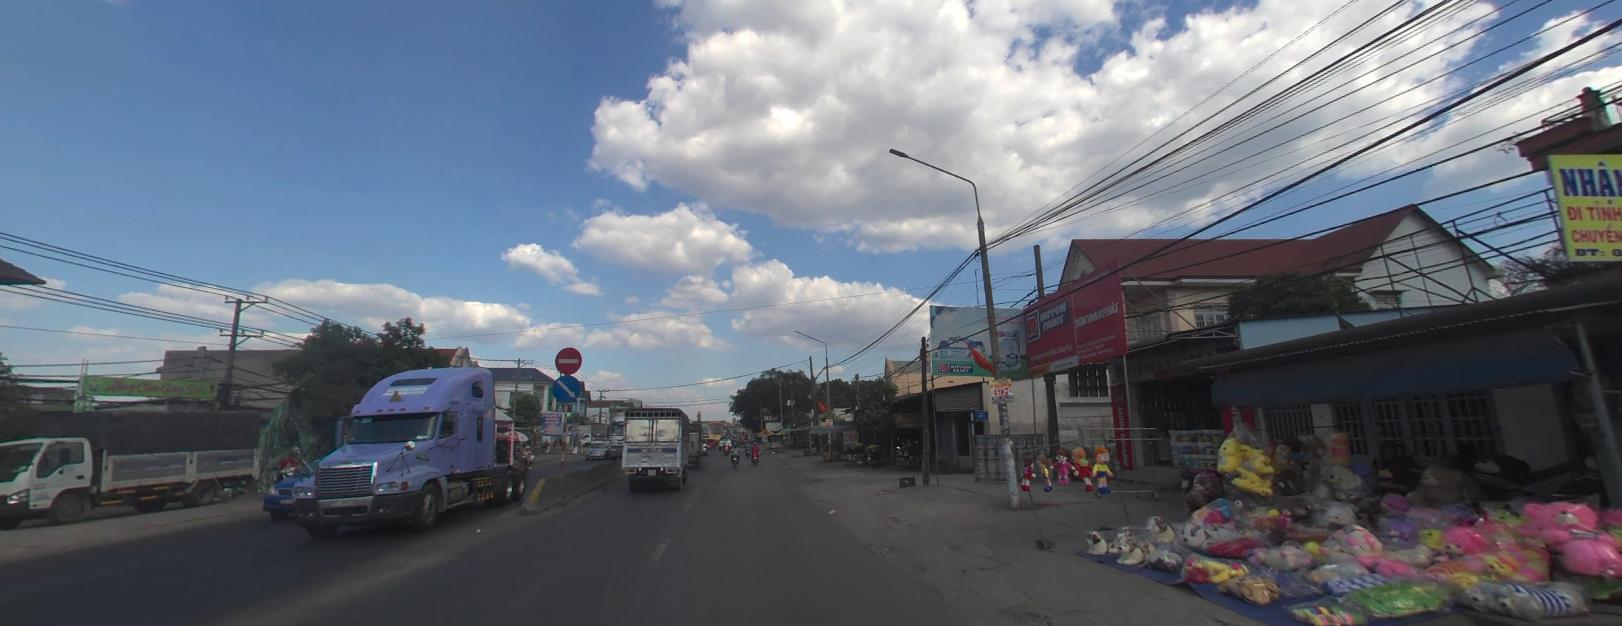Cam nguoc chieu: (553, 345, 581, 372)
Hieu lenh: (552, 372, 581, 400)
